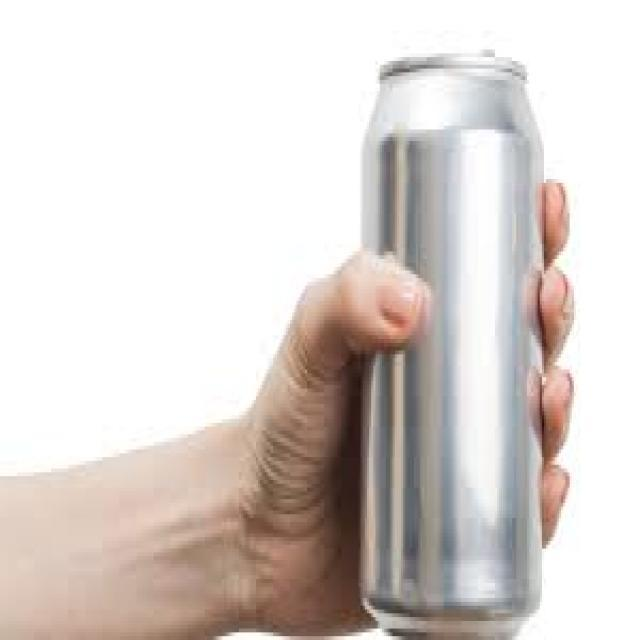metal-can: (358, 45, 546, 640)
